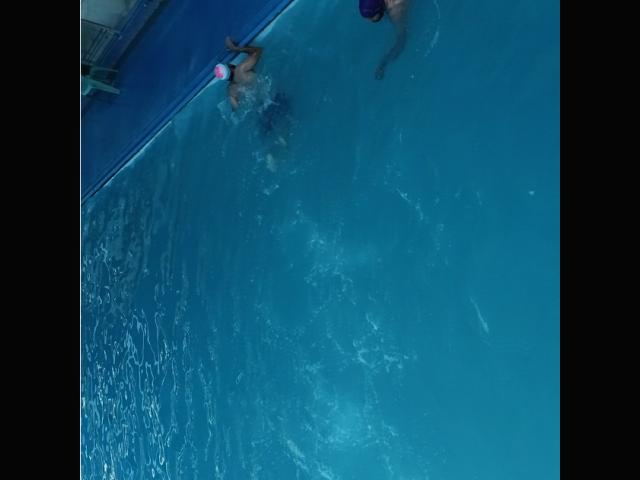swimming: (212, 33, 292, 175), (349, 0, 443, 84)
